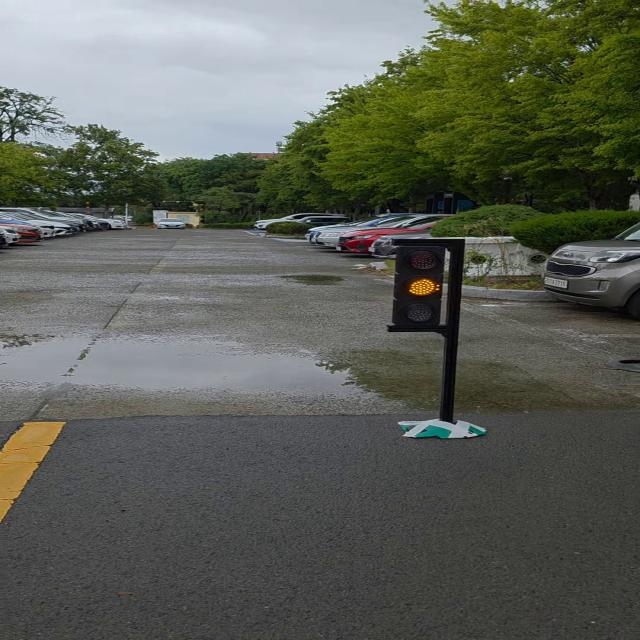yellow: (394, 239, 455, 333)
